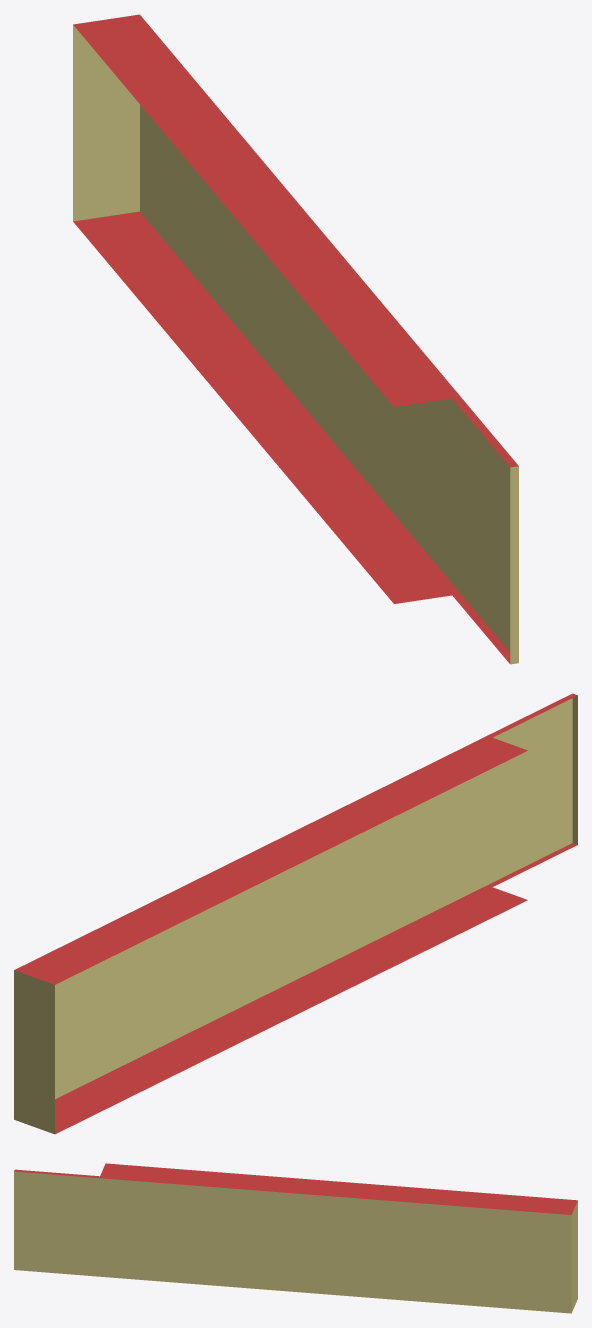
3 renders of one model, top to bottom at view 1: azimuth 30°, elevation 25°; view 2: azimuth 150°, elevation 25°; view 3: azimuth 270°, elevation 25°, orthographic. The views are drawn at different scales.
Bounding box in the file's own units: 3.84 × 17.7 × 3.41.
